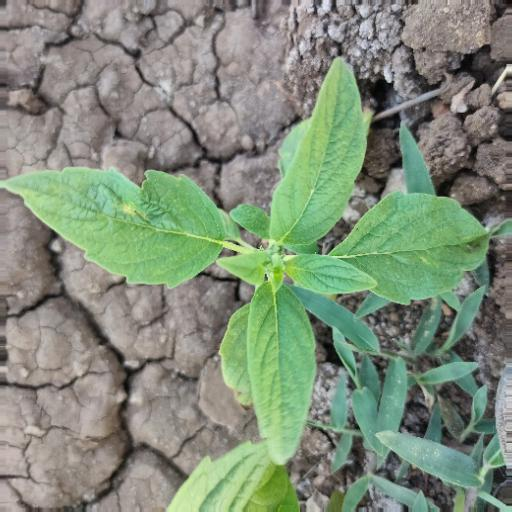crop: (6, 55, 487, 466)
